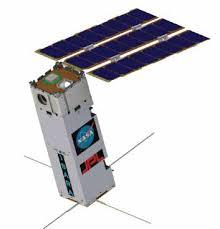antenna: (107, 129, 157, 169), (97, 199, 155, 226), (41, 201, 81, 229), (21, 152, 53, 169)
body: (26, 60, 118, 209)
solar: (34, 5, 162, 62), (86, 27, 211, 84), (63, 16, 188, 72)
